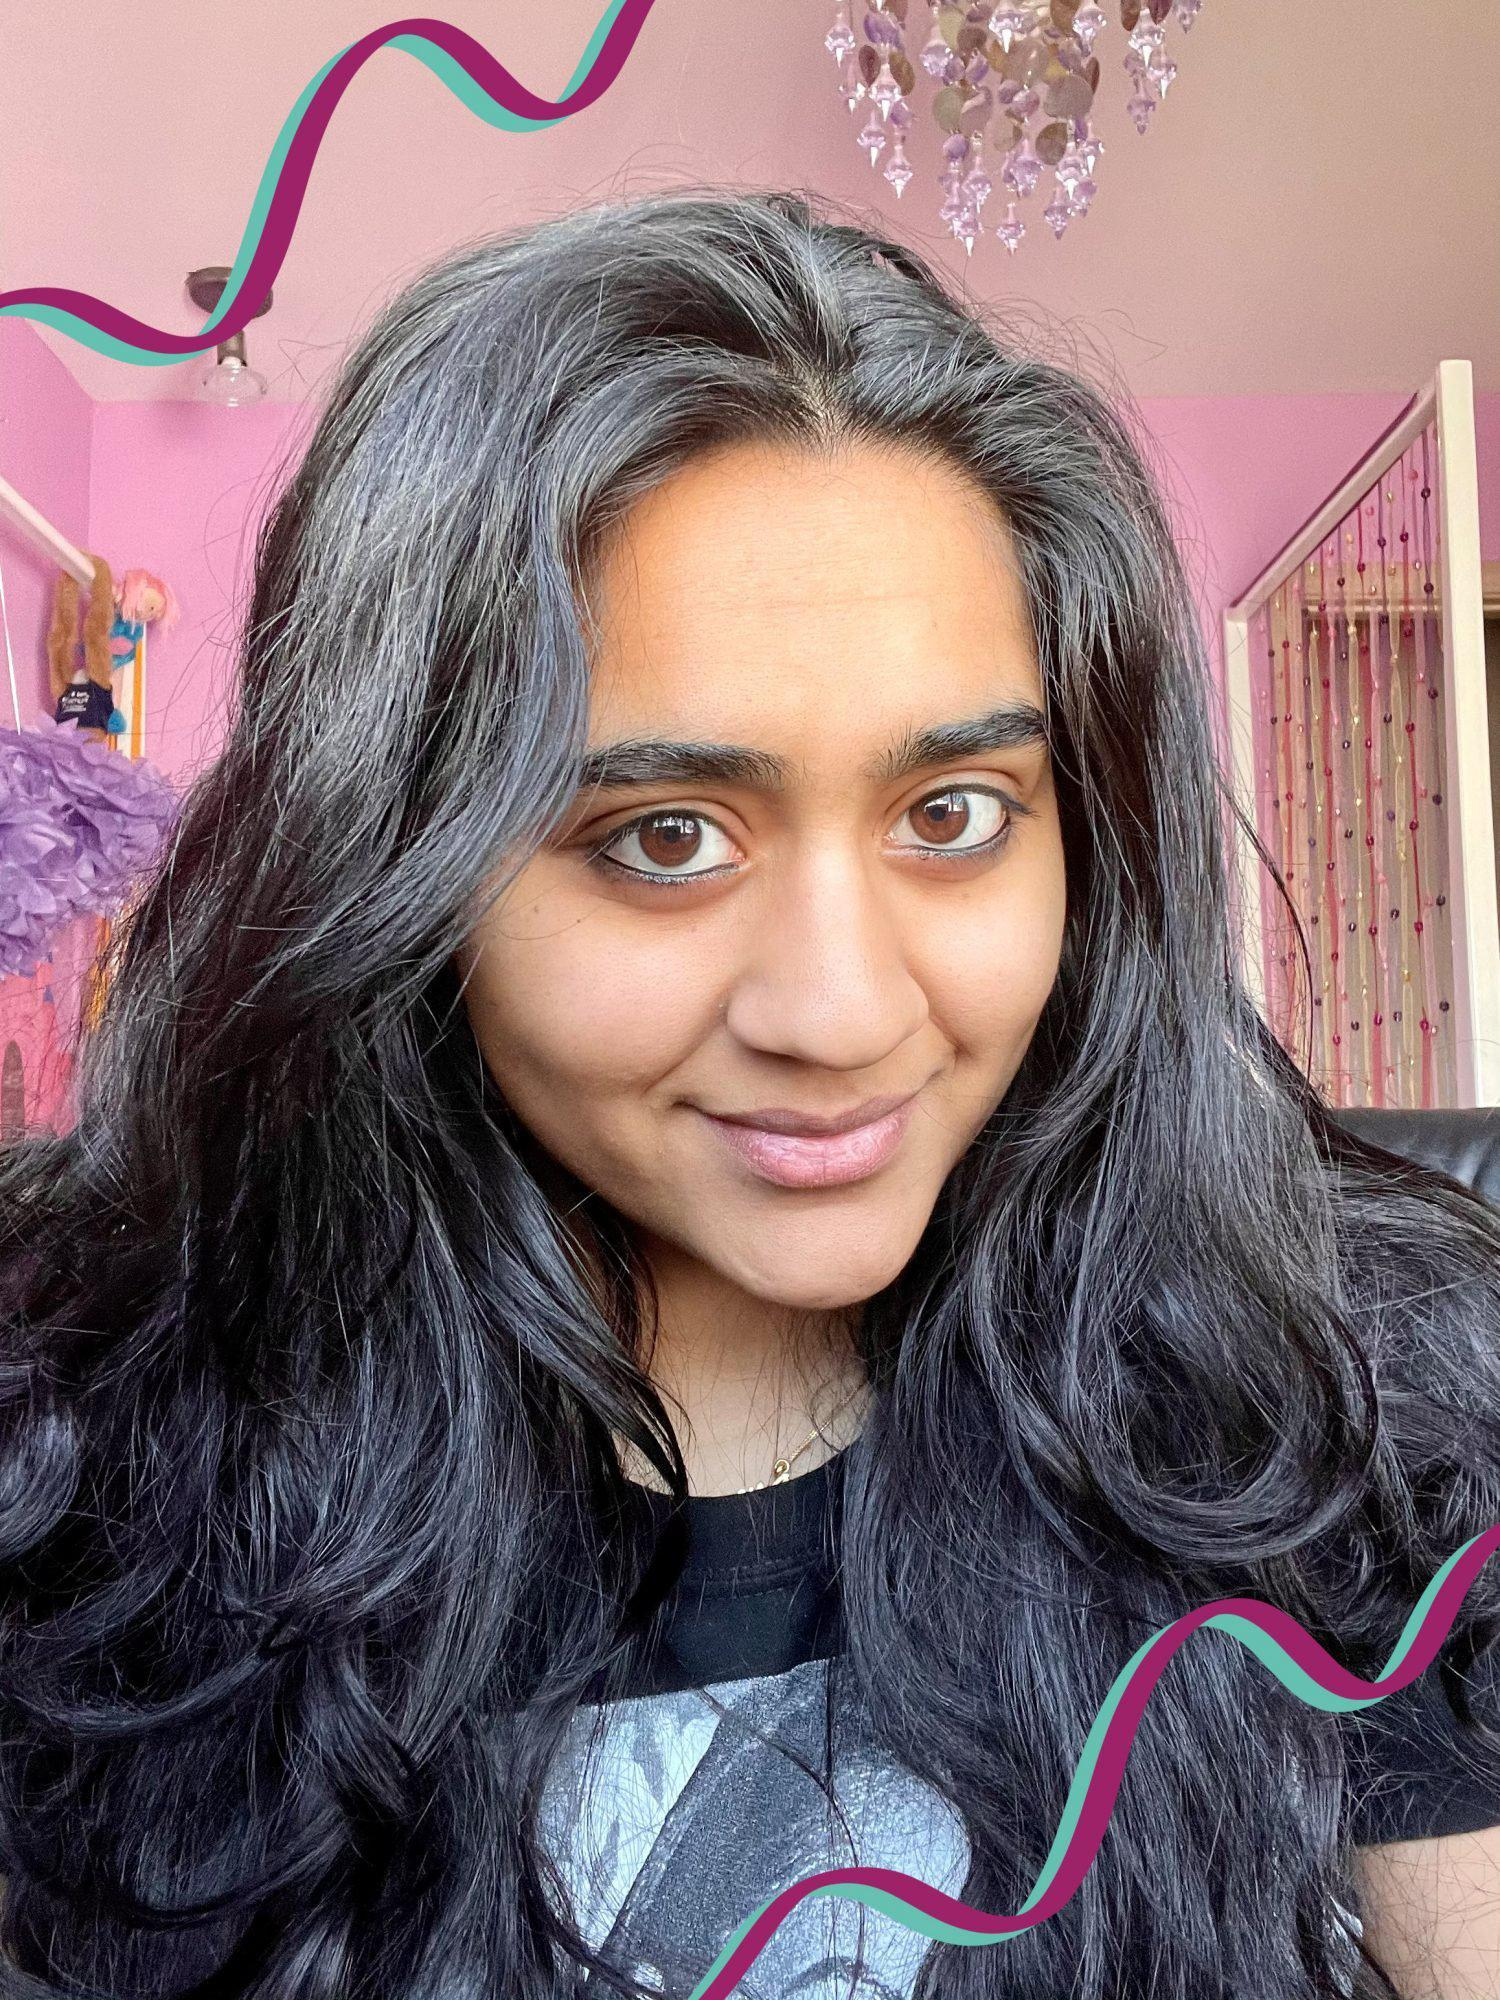Sober: (503, 427, 1068, 1261)
